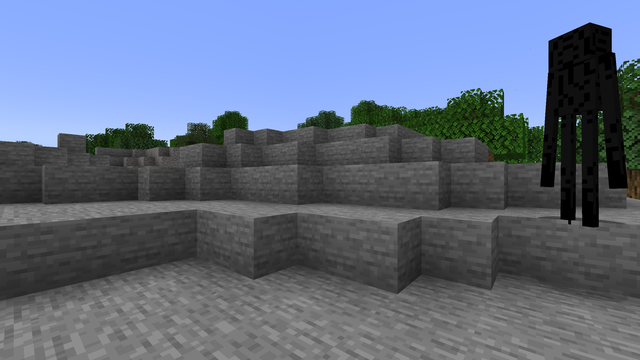endermens: (551, 11, 612, 225)
